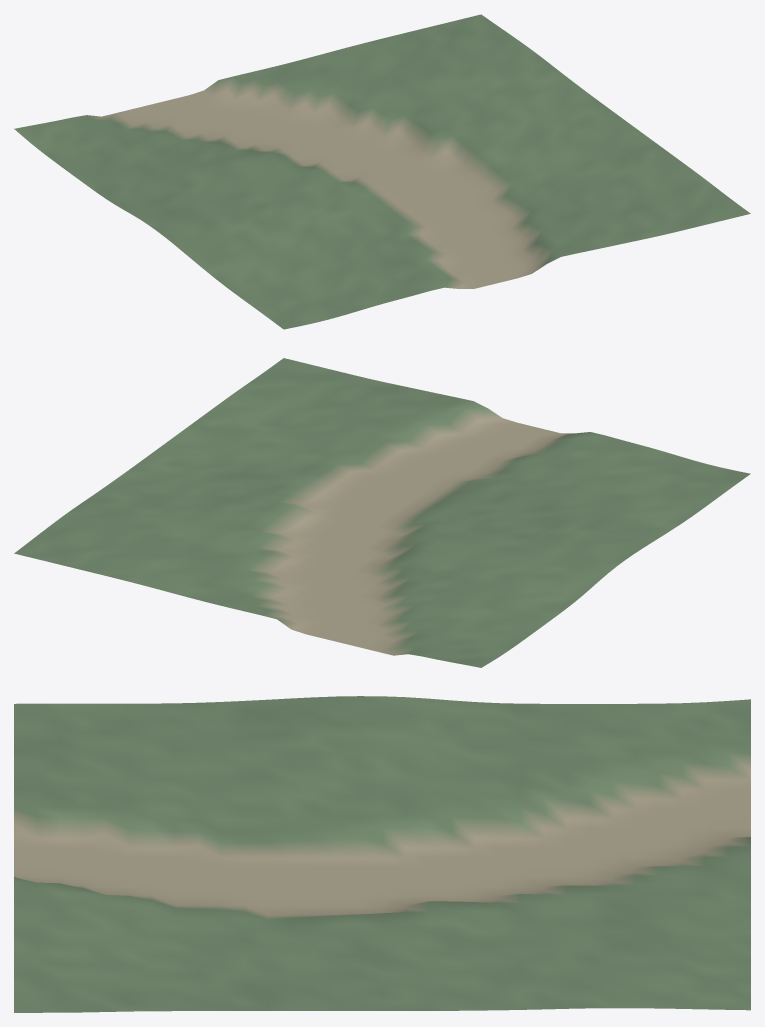
3 views of the same model, one above another, from view 1: azimuth 30°, elevation 25°; view 2: azimuth 150°, elevation 25°; view 3: azimuth 270°, elevation 25° (orthographic). The views are drawn at different scales.
Parts seen in each view (by area): view 1: Terrain-col; view 2: Terrain-col; view 3: Terrain-col.
Boxes of the visible parts, x1=… form: Terrain-col: x1=14, y1=14, x2=750, y2=329; Terrain-col: x1=14, y1=358, x2=750, y2=667; Terrain-col: x1=14, y1=696, x2=750, y2=1012.
Size of the model in its own units: 256 by 6.68 by 256.
